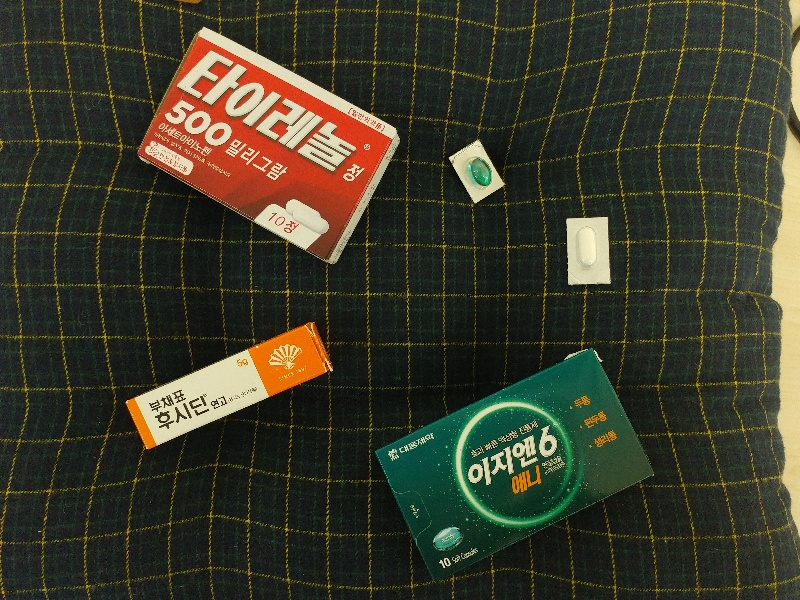ezn: (375, 347, 656, 581)
fucidin: (124, 324, 334, 452)
pill_ezn: (447, 139, 506, 204)
tylenol: (139, 27, 397, 268)
